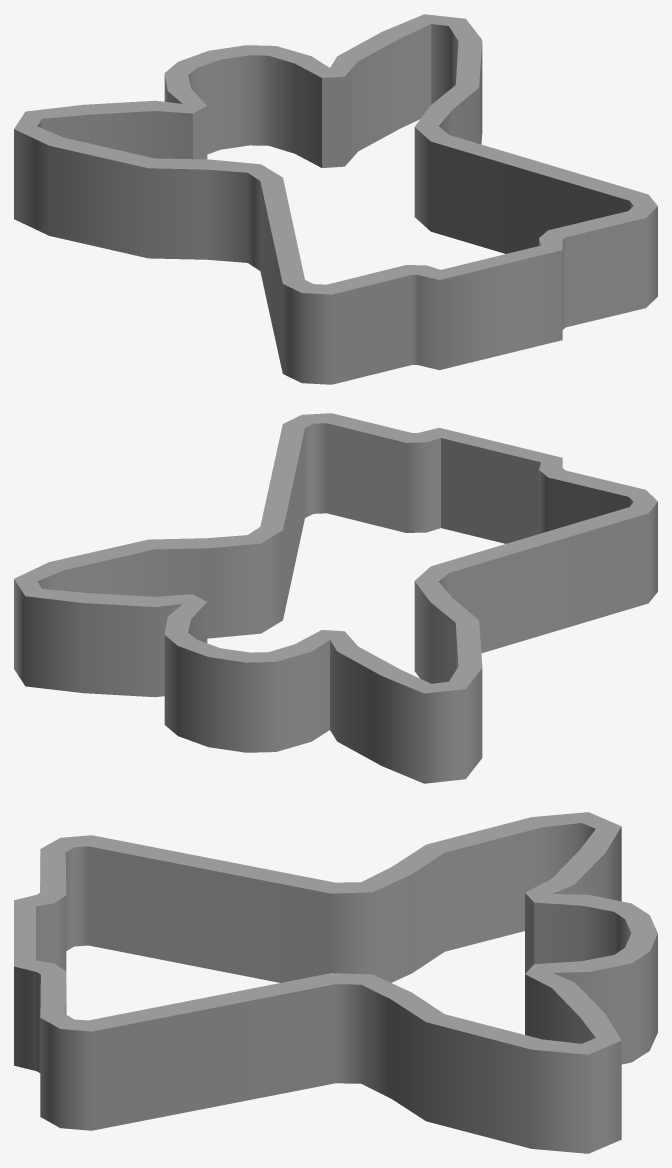
The model's file is BiscuitCutter_Angel_01.fbx.
3 views of the same model, one above another, from view 1: azimuth 30°, elevation 25°; view 2: azimuth 150°, elevation 25°; view 3: azimuth 270°, elevation 25° (orthographic). The views are drawn at different scales.
Parts seen in each view (by area): view 1: BiscuitCutter_Angel_01; view 2: BiscuitCutter_Angel_01; view 3: BiscuitCutter_Angel_01.
Part boxes in pixels (x1,y1,x2,y2): BiscuitCutter_Angel_01: (14, 14, 657, 384); BiscuitCutter_Angel_01: (14, 413, 657, 783); BiscuitCutter_Angel_01: (14, 812, 657, 1153).
Size of the model in its own units: 0.0669 by 0.0128 by 0.0751.
